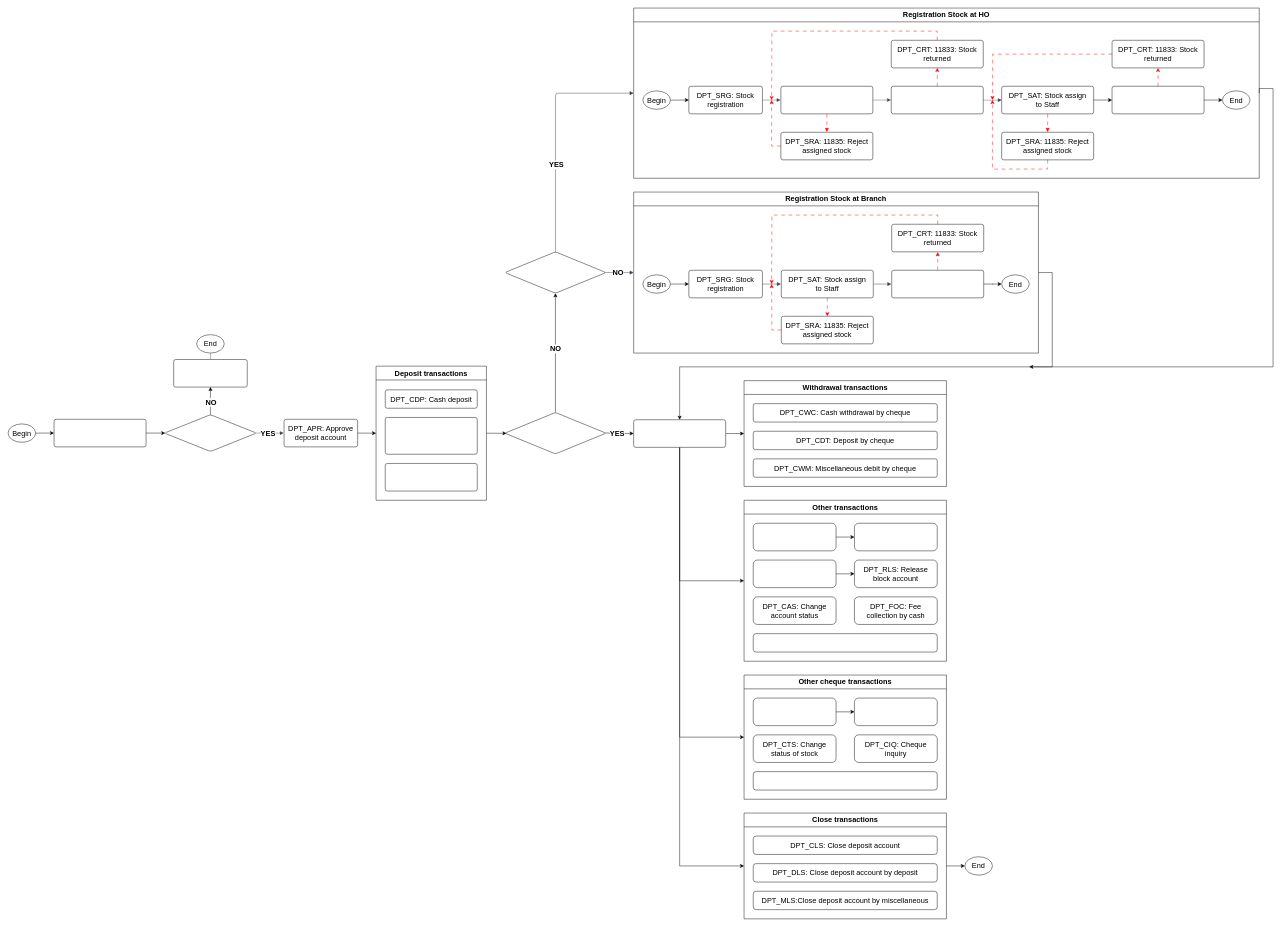
Some shapes in this 1285 by 927 pixel diagram are drawn without their labels. The centre of each missing label's shape, as x and y in pixels:
Approve deposit account?: the point at 210,432
Do you have "Cheque"?: the point at 555,433
DPT_BLK: Block account: the point at 794,574
DPT_CCR: Stock confirm received: the point at 937,284
DPT_CCR: Stock confirm received (branch confirm): the point at 937,100
DPT_CCR: Stock confirm received (teller confirm): the point at 1158,100
DPT_CEI: Issued hold balance for cheque: the point at 794,712
DPT_CIS: Cheque book issued: the point at 679,433
DPT_EMK: Hold balance: the point at 794,537
DPT_ERL: Release hold balance: the point at 895,537
DPT_HIS: Transaction history inquiry: the point at 845,642
DPT_MDP: Miscellaneous deposit: the point at 431,477
DPT_OPN: Open new deposit account: the point at 100,433
DPT_REC: Release hold balance for cheque: the point at 895,712
DPT_REJ: Reject deposit account: the point at 210,373
DPT_SAB: 11831: Stock assigned to branch: the point at 826,100
DPT_SLS: Cheque leaves status inquiry: the point at 845,780
DPT_TRF: Transfer from deposit account to deposit account: the point at 431,435
Is the user in HO?: the point at 555,272
